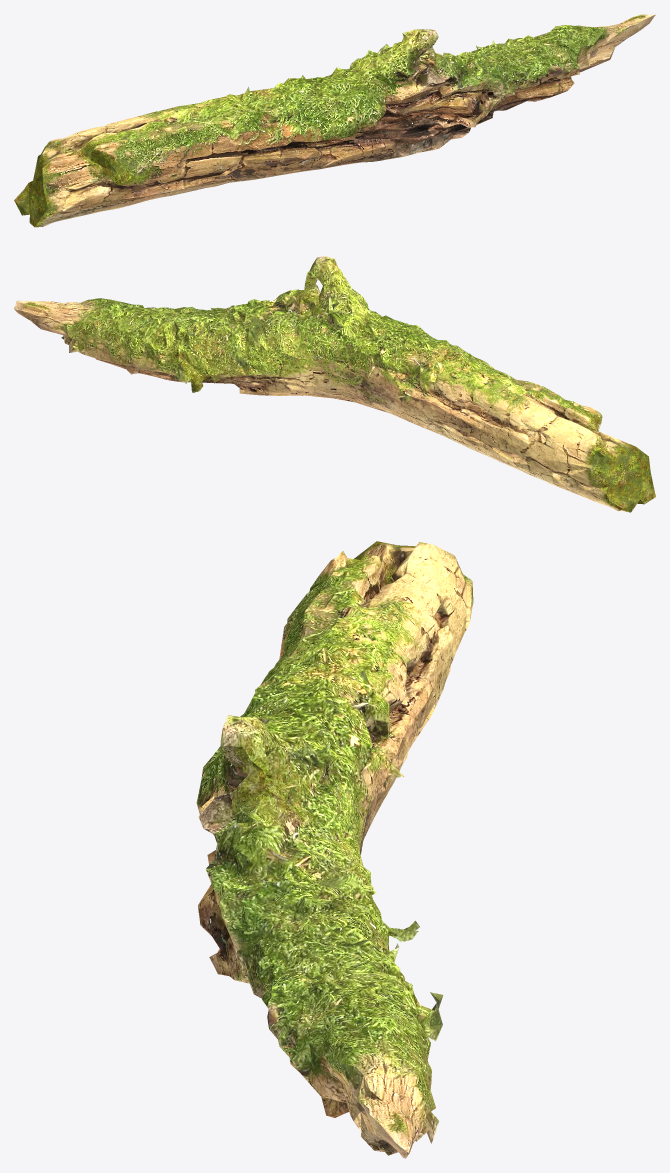
Rendered from mossy_branch.glb.
3 views of the same model, one above another, from view 1: azimuth 30°, elevation 25°; view 2: azimuth 150°, elevation 25°; view 3: azimuth 270°, elevation 25° (orthographic). The views are drawn at different scales.
Parts seen in each view (by area): view 1: mossybranchMesh_phong_mossybranch_0; view 2: mossybranchMesh_phong_mossybranch_0; view 3: mossybranchMesh_phong_mossybranch_0.
Boxes of the visible parts, x1=… form: mossybranchMesh_phong_mossybranch_0: x1=14, y1=14, x2=655, y2=227; mossybranchMesh_phong_mossybranch_0: x1=14, y1=256, x2=655, y2=512; mossybranchMesh_phong_mossybranch_0: x1=196, y1=541, x2=473, y2=1158.
Bounding box in the file's own units: 0.624 × 0.1274 × 0.119.
Materials: 1 (1 with a texture image).
